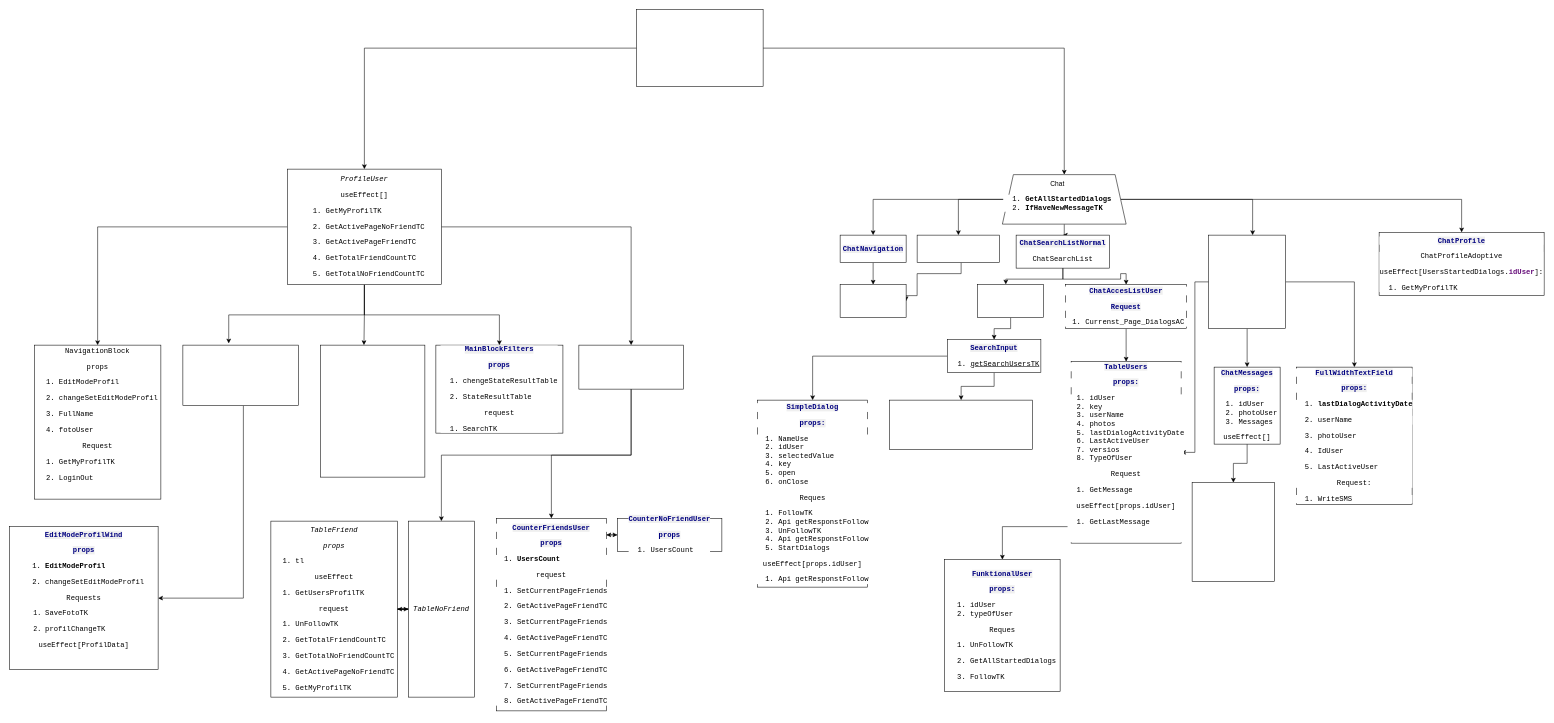
Some shapes in this 1554 by 723 pixel diagram are drawn without their labels. Each missing label, with the box of its shape:
App useEffect[] initializeAppTC: (636, 9, 763, 87)
ButtonFunctional props: idUser idMessage Request DelMessageTK SpamMessageTK: (1192, 482, 1275, 582)
ButtonMenuNavigation: (917, 235, 1000, 263)
ChatSearchButton: (977, 284, 1044, 318)
ChatWind Request: GetNextPageMessage GetMessageBottomTS useEffect[]: (1208, 235, 1286, 329)
IconsNavigation: (840, 284, 906, 318)
MainBlockFilterFun props EditModeProfil changeSetEditModeProfil: (182, 345, 298, 406)
MainBlockUsersInfo props StateResultTable: (578, 345, 683, 389)
MainInfo props FullName ProfesionSkils AboutUser lokingForAJab contacts photos: (320, 345, 425, 477)
SetingsForSearch Request: SetSettingsTypeOfUsersSearchAC SetSettingsSearchSizeAC: (889, 400, 1033, 450)
